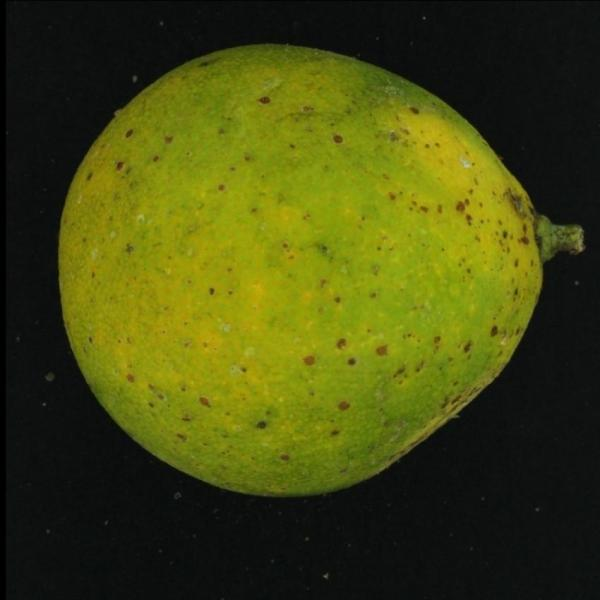Greening: (44, 22, 574, 512)
